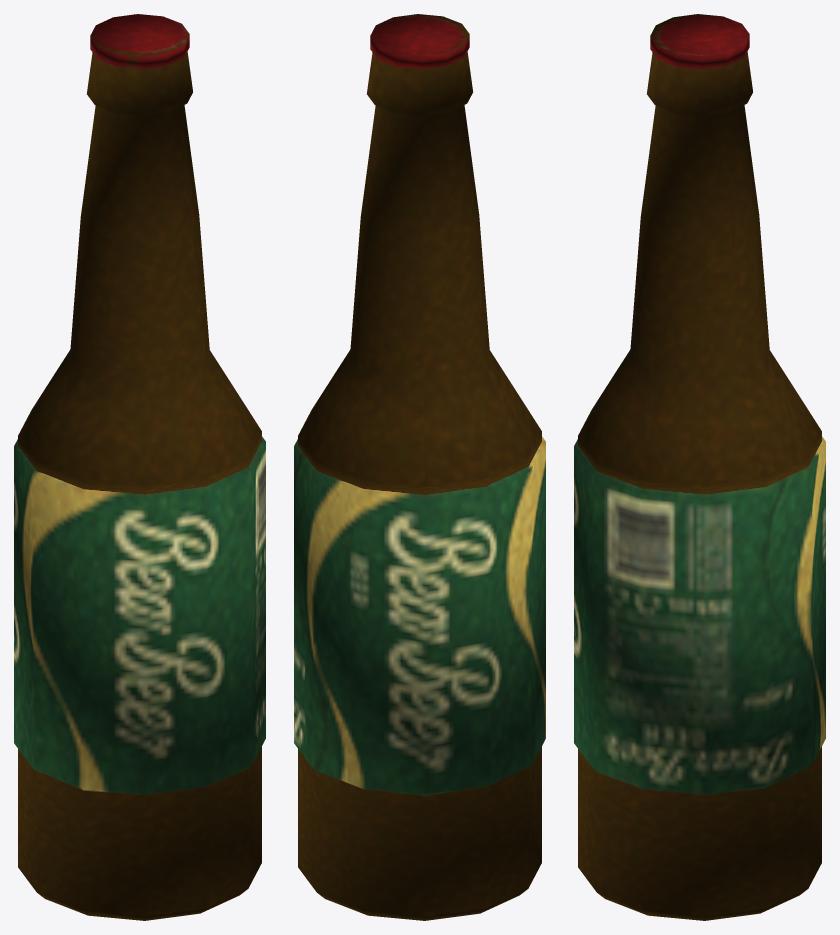
The model's file is beer_bottle.obj.
3 renders of one model, left to right at view 1: azimuth 30°, elevation 25°; view 2: azimuth 150°, elevation 25°; view 3: azimuth 270°, elevation 25°, orthographic.
Parts seen in each view (by area): view 1: beer_bottle; view 2: beer_bottle; view 3: beer_bottle.
Boxes of the visible parts, bbox=[...] form: beer_bottle: bbox=[14, 14, 265, 920]; beer_bottle: bbox=[294, 14, 545, 920]; beer_bottle: bbox=[574, 14, 825, 920].
Size of the model in its own units: 0.0794 by 0.292 by 0.0794.
